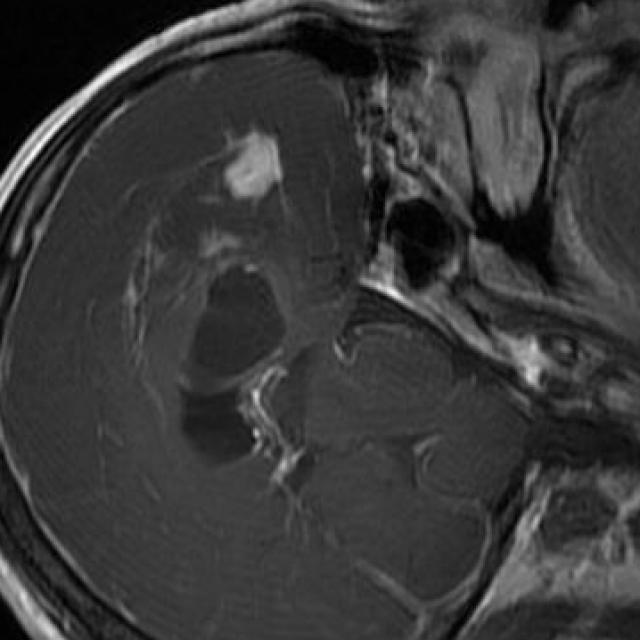glioma: (125, 130, 316, 494)
